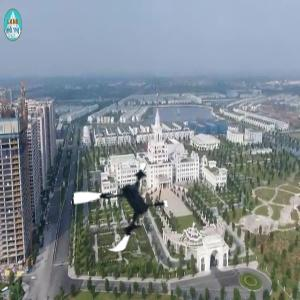drone: (73, 159, 169, 255)
